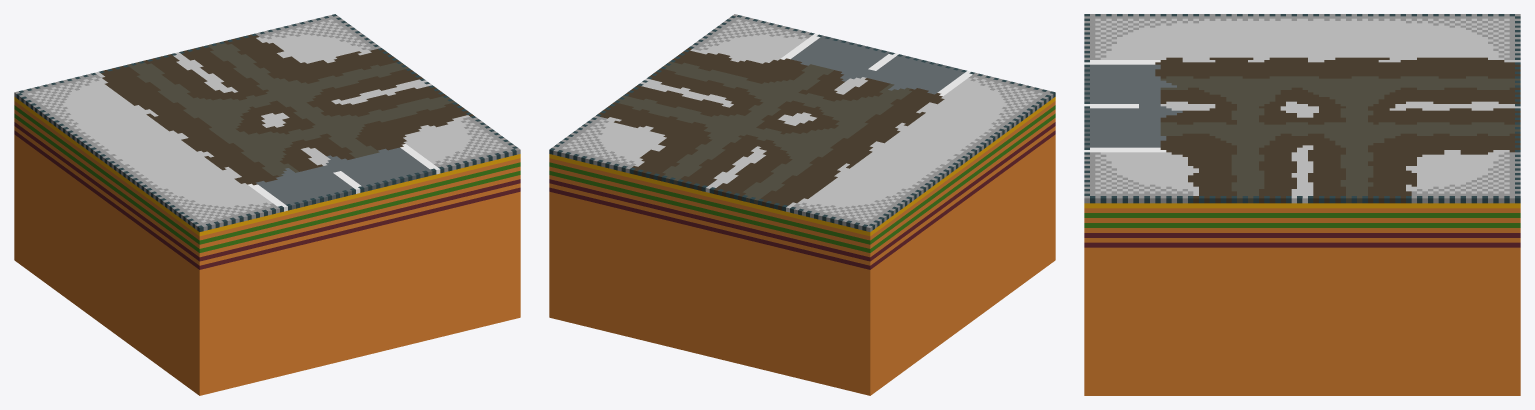
Rendered from snow_road_transition_4_tile.obj.
3 renders of one model, left to right at view 1: azimuth 30°, elevation 25°; view 2: azimuth 150°, elevation 25°; view 3: azimuth 270°, elevation 25°, orthographic. The views are drawn at different scales.
Bounding box in the file's own units: 8 × 4 × 8.
Materials: 1 (1 with a texture image).
